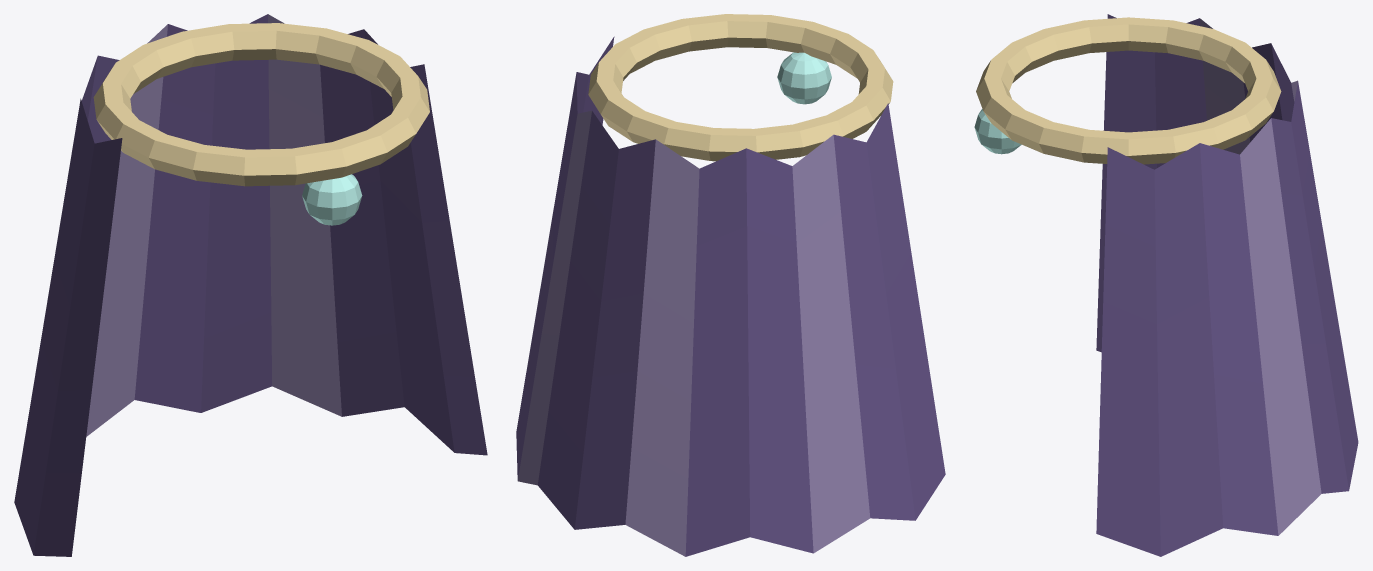
File: cloak-1.glb
3 renders of one model, left to right at view 1: azimuth 30°, elevation 25°; view 2: azimuth 150°, elevation 25°; view 3: azimuth 270°, elevation 25°, orthographic. The views are drawn at different scales.
Visible parts, largest first — view 1: Moonweave cape tier 1, Gold collar, Moon clasp; view 2: Moonweave cape tier 1, Gold collar, Moon clasp; view 3: Moonweave cape tier 1, Gold collar, Moon clasp.
Part boxes in pixels (x1=…): Moonweave cape tier 1: x1=14, y1=14, x2=487, y2=556; Gold collar: x1=93, y1=23, x2=429, y2=186; Moon clasp: x1=302, y1=174, x2=362, y2=225; Moonweave cape tier 1: x1=516, y1=36, x2=945, y2=556; Gold collar: x1=588, y1=14, x2=893, y2=161; Moon clasp: x1=777, y1=52, x2=831, y2=104; Moonweave cape tier 1: x1=1096, y1=14, x2=1358, y2=556; Gold collar: x1=976, y1=17, x2=1281, y2=164; Moon clasp: x1=974, y1=109, x2=1021, y2=154.
Size of the model in its own units: 1.45 by 1.41 by 1.27.
